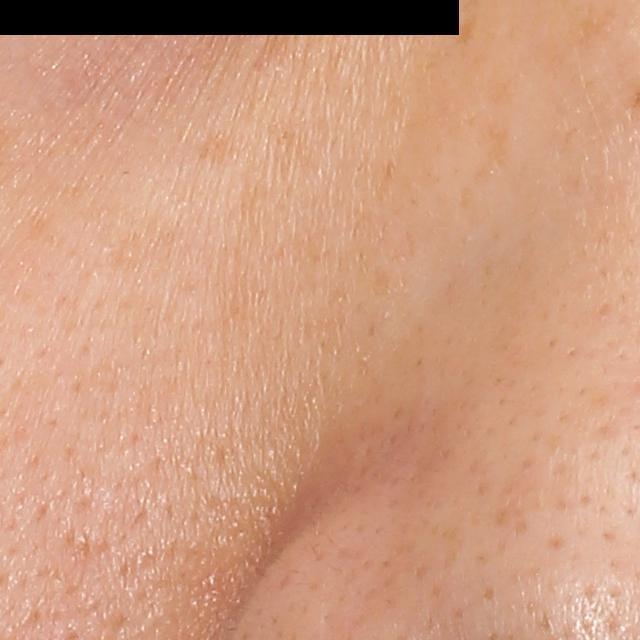melasma: (190, 126, 250, 177), (451, 10, 481, 50)
